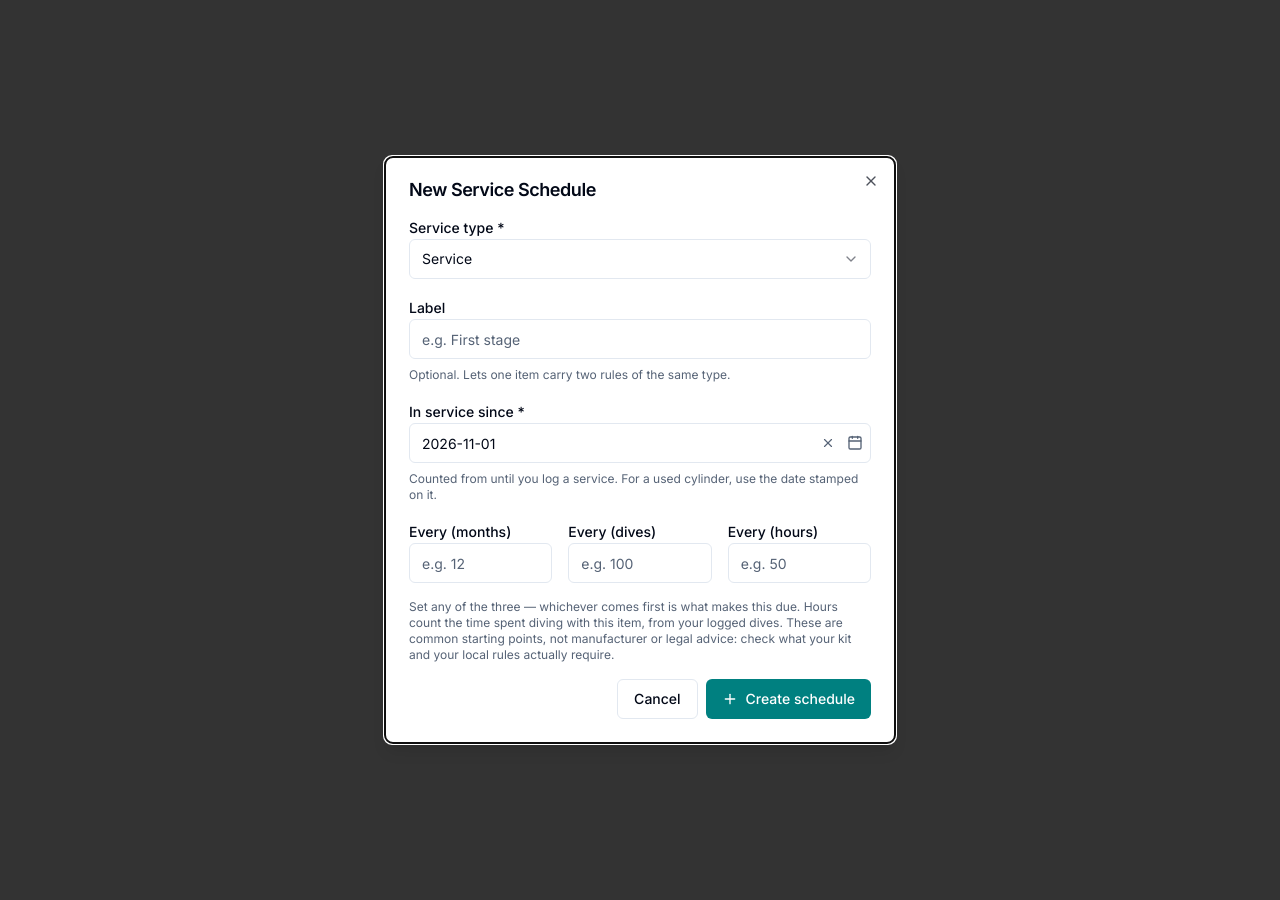
Test case: GearServiceScheduleDialog › refuses a month interval past the API's ceiling before sending it
Type "1201" into the number field labelled "Every (months)" at (481, 563), box [409, 543, 552, 583]
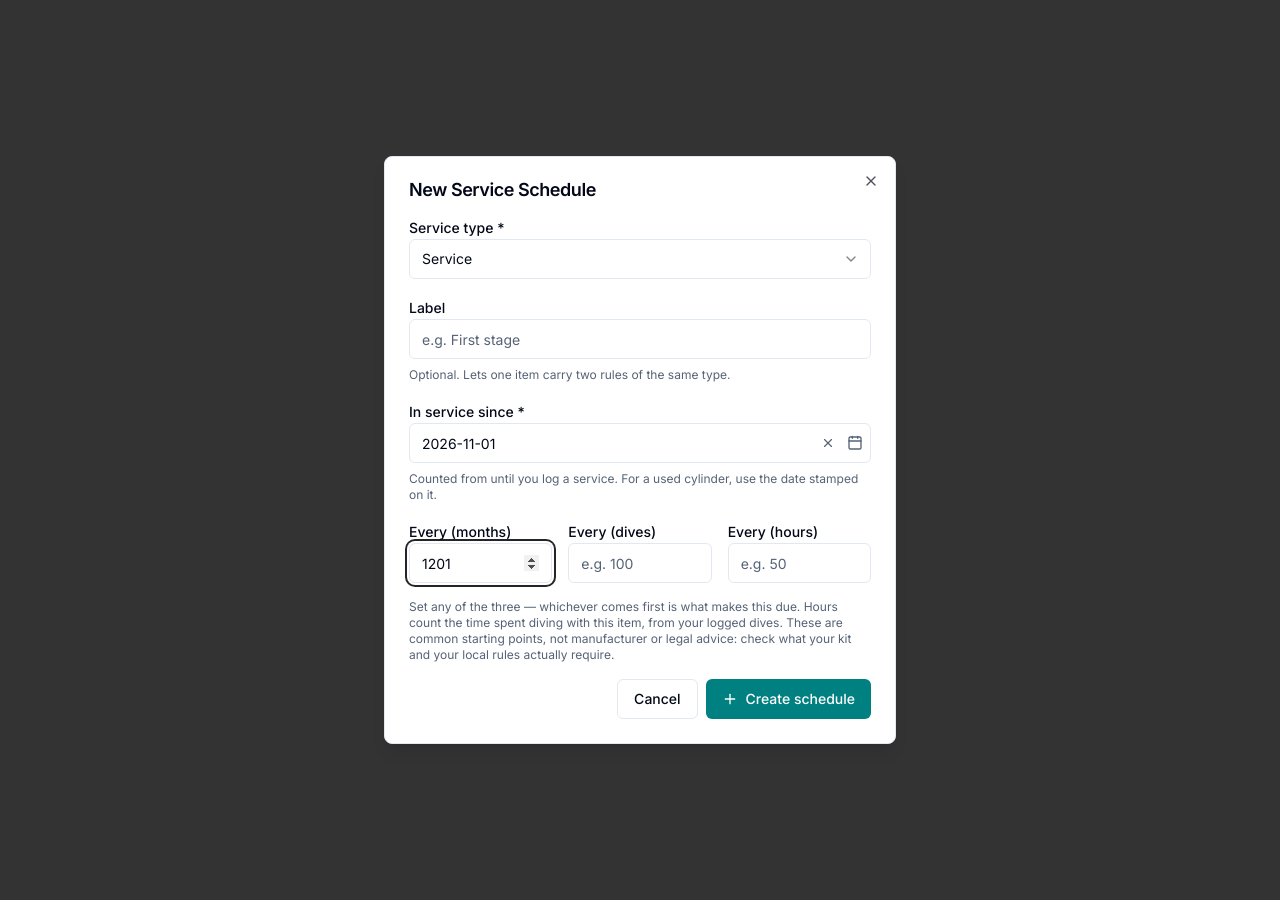
Click the button "Create schedule" at (788, 699), box [706, 679, 871, 719]
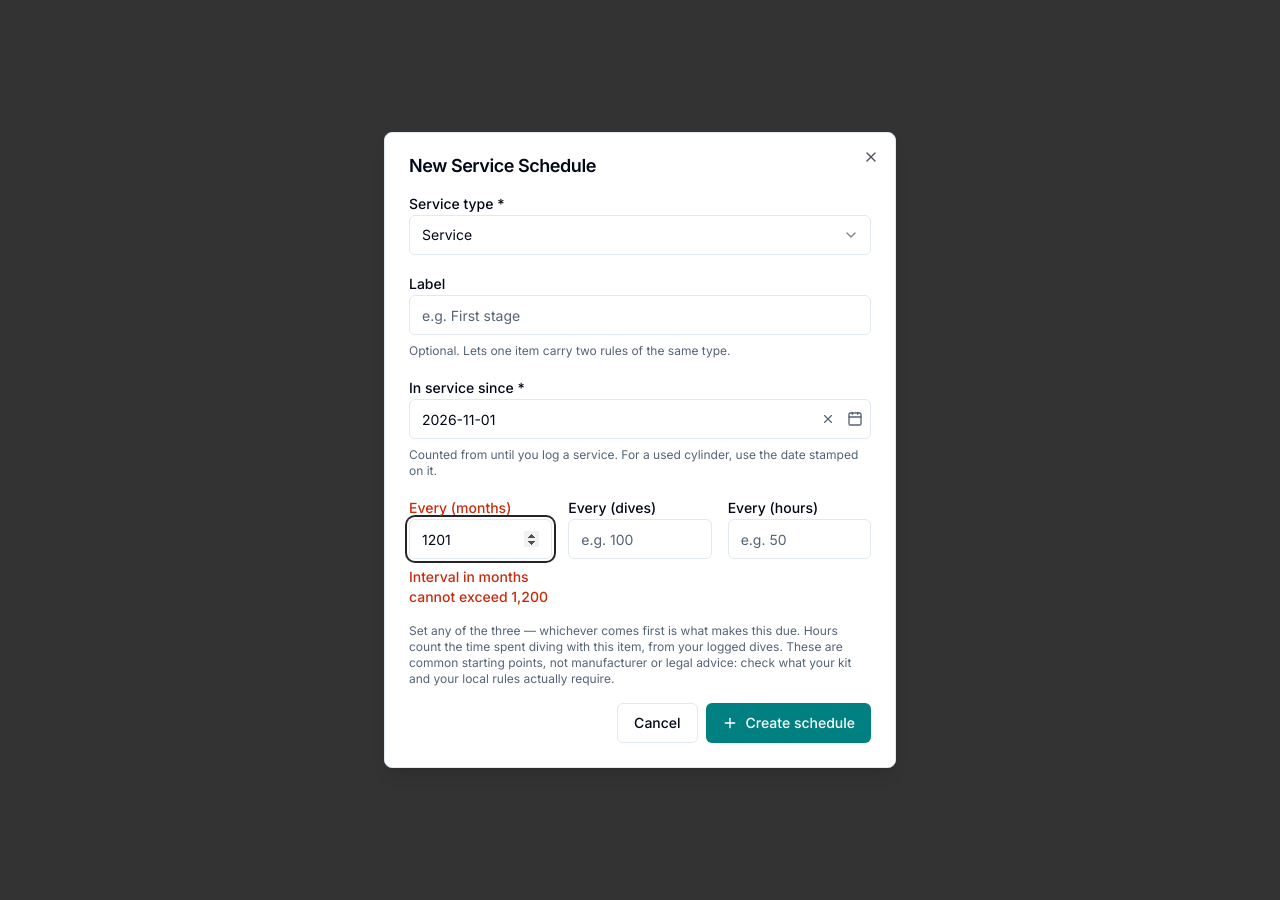
Expected: the text "Interval in months cannot exceed 1,200" is shown, [409, 567, 552, 607]
